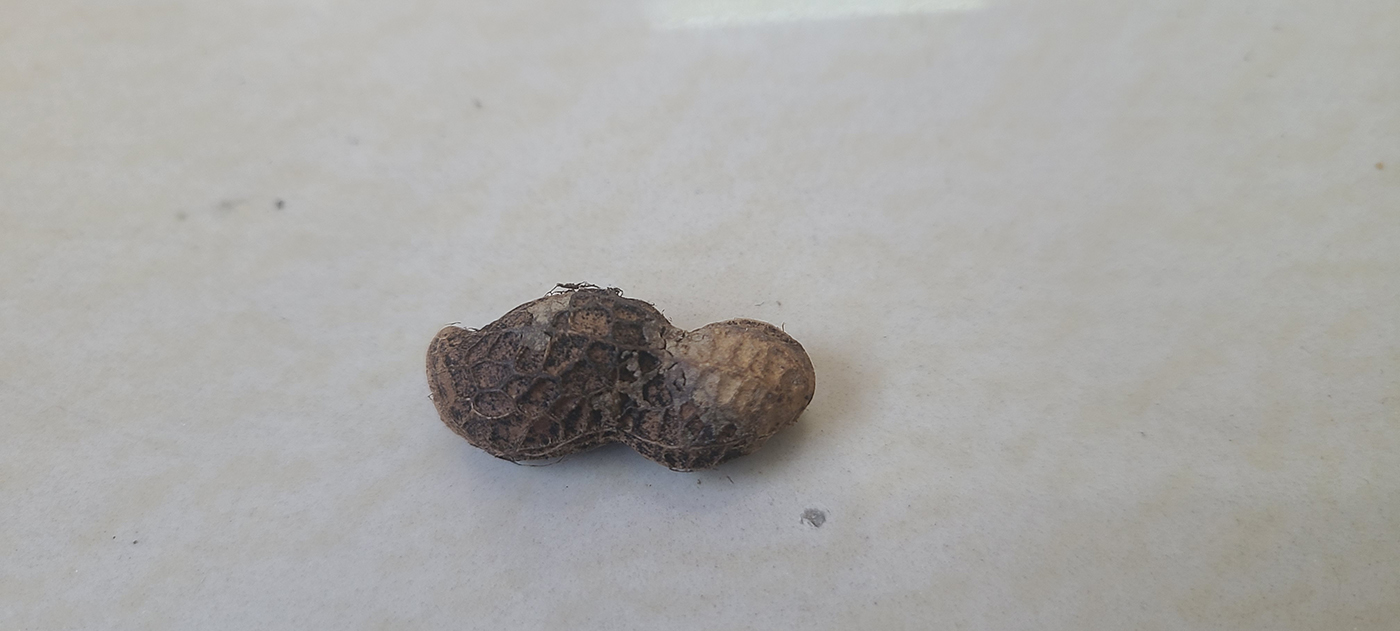l: (424, 282, 820, 474)
